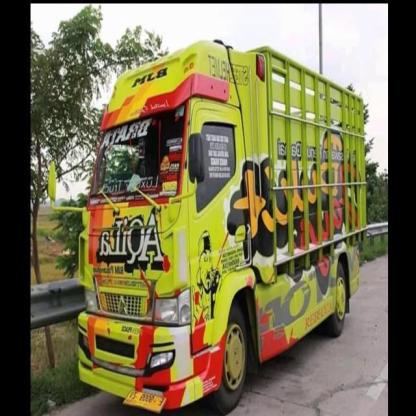truck: (46, 38, 369, 416)
